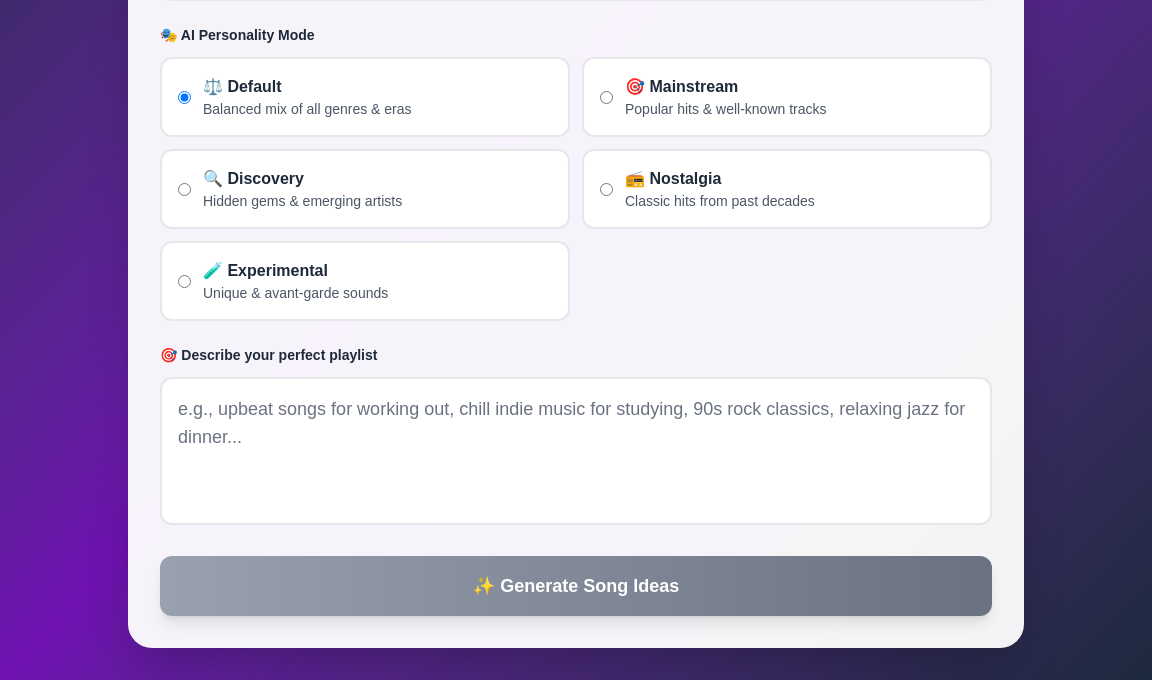
Test: Home Component › UI Interactions › should handle start over functionality
(page scrolled)
Replace the text in the text box labelled "🎯 Describe your perfect playlist" with "test music": (576, 451) [160,377,992,525]
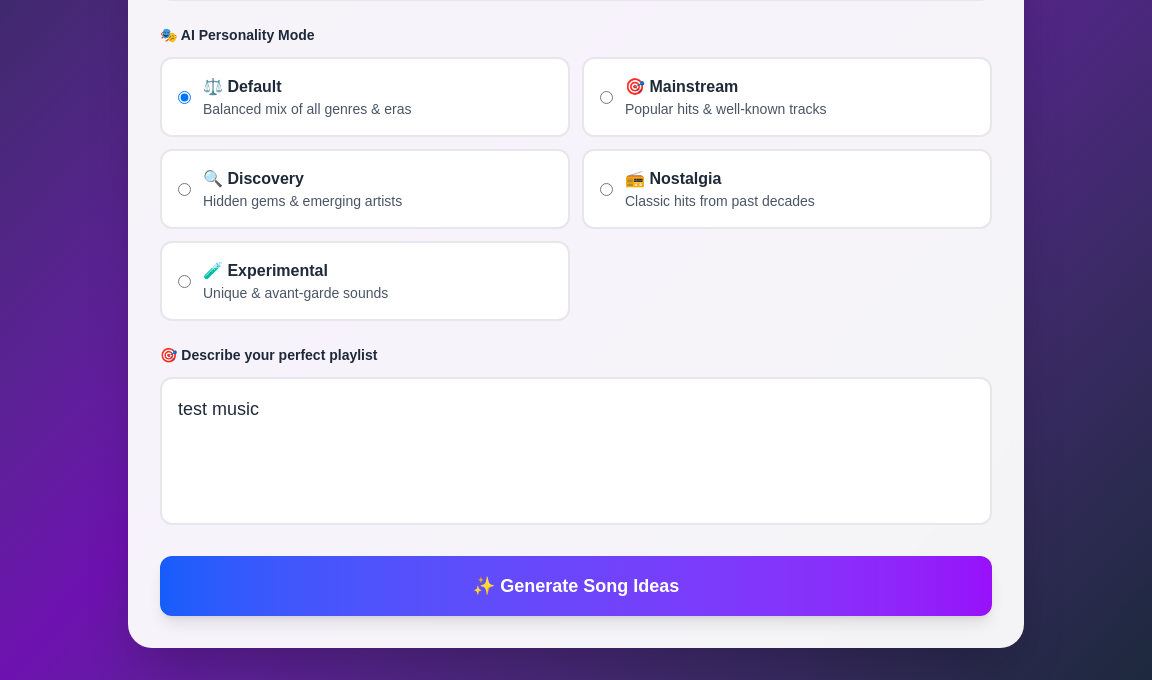
Click the button "✨ Generate Song Ideas": (576, 586) [160,556,992,616]
(page scrolled)
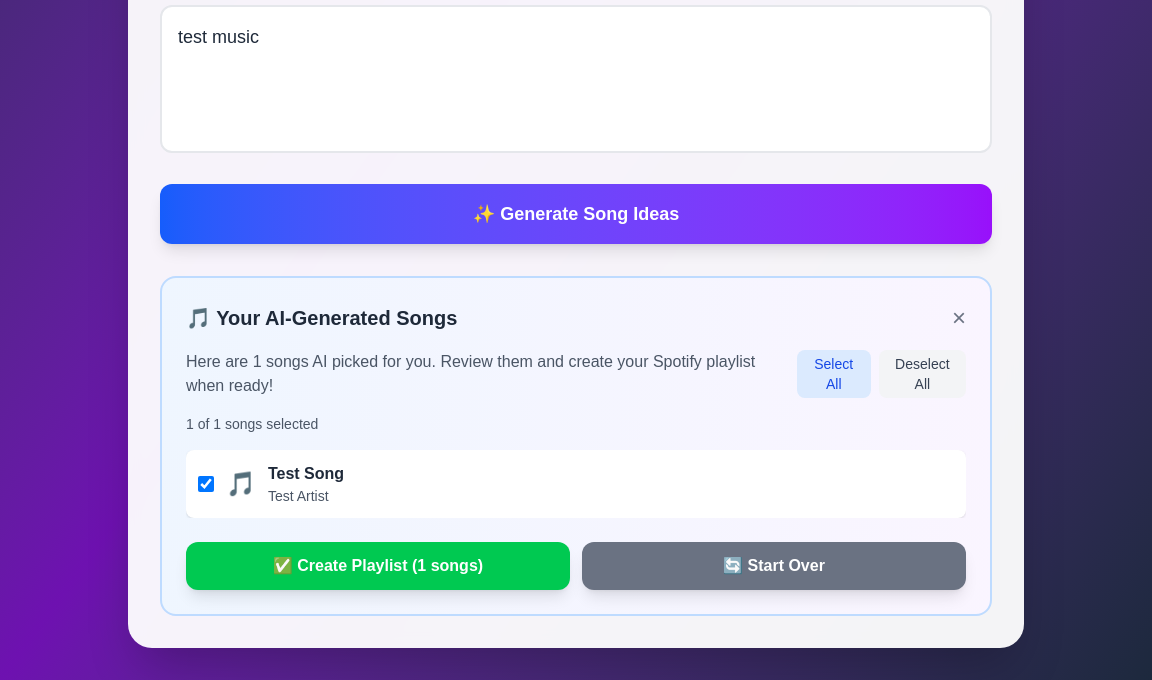
Expected: the button "🔄 Start Over" is shown
Click the button "🔄 Start Over": (774, 566) [582,542,966,590]
(page scrolled)
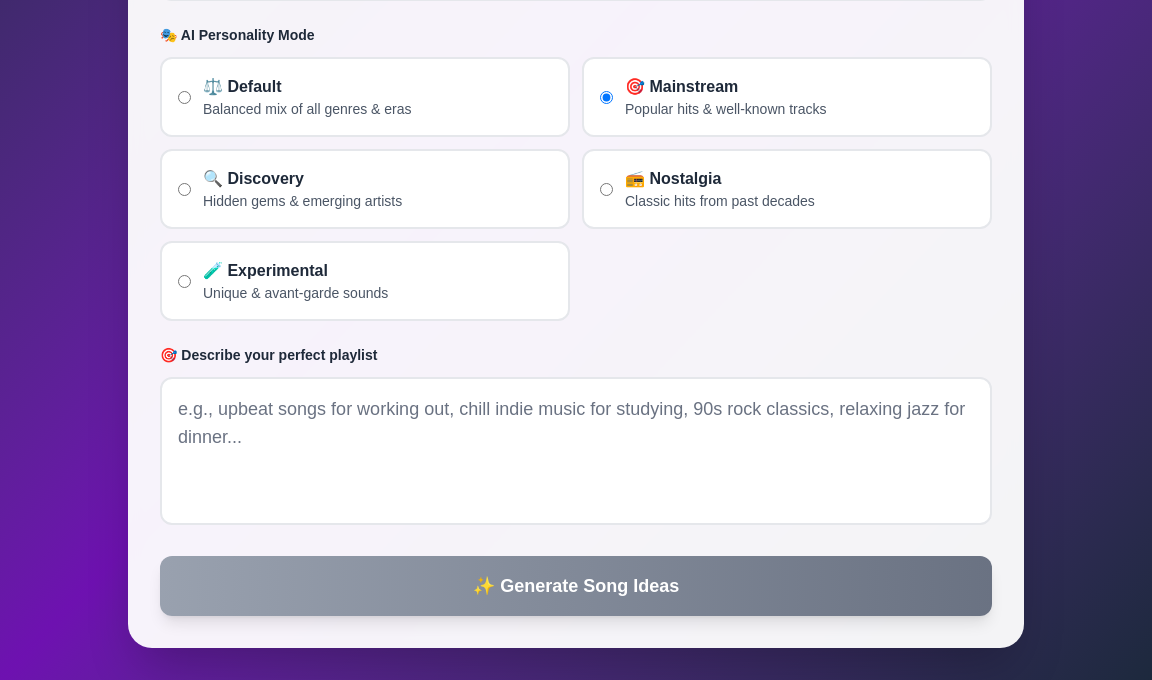
Expected: the heading "🎵 Your AI-Generated Songs" is gone
Expected: the text box labelled "🎯 Describe your perfect playlist" is empty, [160,377,992,525]
